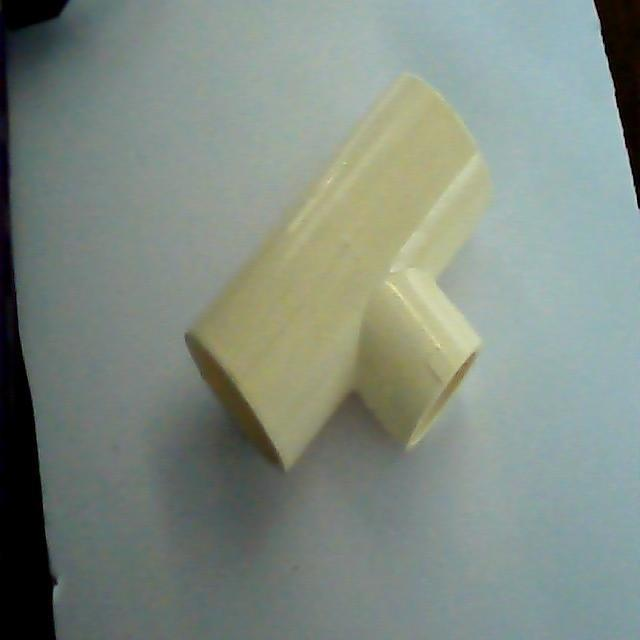T Joint: (184, 72, 494, 474)
